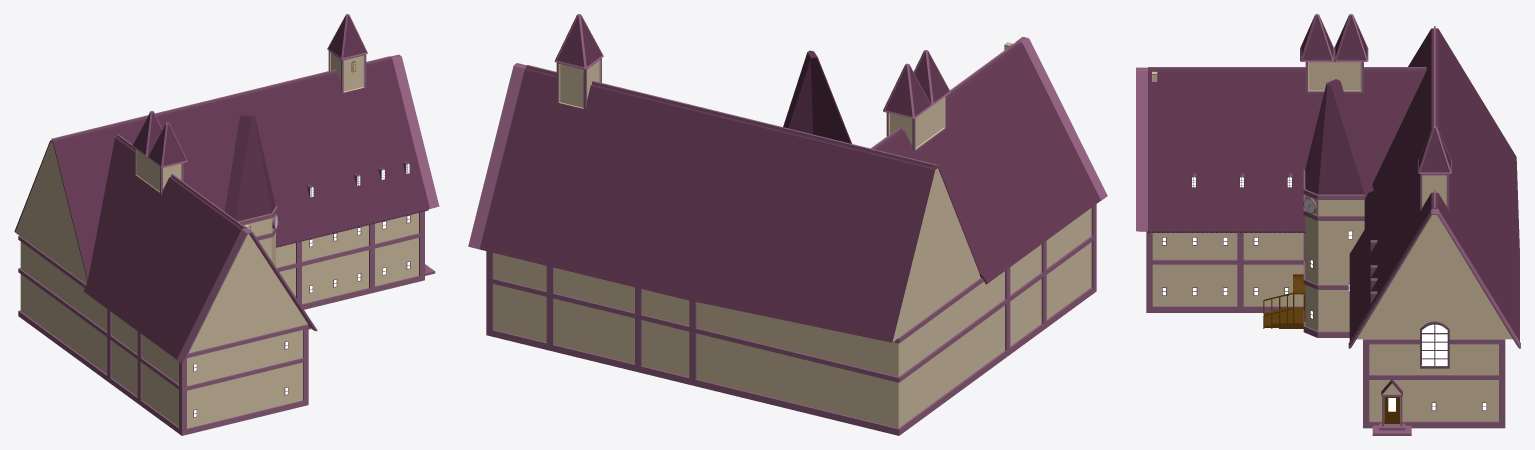
Rendered from beautiful_house-draco.glb.
3 views of the same model, side by side, from view 1: azimuth 30°, elevation 25°; view 2: azimuth 150°, elevation 25°; view 3: azimuth 270°, elevation 25° (orthographic). The views are drawn at different scales.
Visible parts, largest first — view 1: Object_162_roof_0, Object_21_Baseboard_material_0, Object_143_roof_0, Object_142_Baseboard_material_0, Object_145_Baseboard_material_0, Object_26_roof_clock_0, Object_4_purple_0, Object_97_purple_0, Object_164_roof_front_0, Object_159_roof_front_0, Object_148_roof_0, Object_137_roof_front_0 (+7 smaller); view 2: Object_162_roof_0, Object_21_Baseboard_material_0, Object_143_roof_0, Object_145_Baseboard_material_0, Object_4_purple_0, Object_97_purple_0, Object_26_roof_clock_0, Object_164_roof_front_0, Object_148_roof_0, Object_137_roof_front_0, Object_159_roof_front_0, Object_139_Baseboard_material_0 (+3 smaller); view 3: Object_143_roof_0, Object_162_roof_0, Object_21_Baseboard_material_0, Object_161_Baseboard_material_0, Object_27_roof_clock.001_0, Object_26_roof_clock_0, Object_4_purple_0, Object_159_roof_front_0, Object_97_purple_0, Object_148_roof_0, Object_164_roof_front_0, Object_139_Baseboard_material_0 (+13 smaller).
Part boxes in pixels (x1,y1,x2,y2): Object_162_roof_0: [14, 58, 429, 280]; Object_21_Baseboard_material_0: [20, 206, 418, 428]; Object_143_roof_0: [83, 137, 315, 359]; Object_142_Baseboard_material_0: [189, 234, 307, 352]; Object_145_Baseboard_material_0: [15, 142, 86, 283]; Object_26_roof_clock_0: [224, 113, 275, 221]; Object_4_purple_0: [18, 275, 419, 435]; Object_97_purple_0: [18, 233, 419, 391]; Object_164_roof_front_0: [391, 54, 439, 208]; Object_159_roof_front_0: [176, 228, 317, 363]; Object_148_roof_0: [133, 112, 185, 165]; Object_137_roof_front_0: [51, 56, 391, 141]; Object_162_roof_0: [479, 67, 979, 342]; Object_21_Baseboard_material_0: [493, 208, 1091, 428]; Object_143_roof_0: [875, 42, 1100, 284]; Object_145_Baseboard_material_0: [892, 168, 980, 342]; Object_4_purple_0: [486, 285, 1096, 435]; Object_97_purple_0: [486, 234, 1096, 382]; Object_26_roof_clock_0: [783, 50, 851, 143]; Object_164_roof_front_0: [468, 63, 526, 249]; Object_148_roof_0: [885, 52, 949, 116]; Object_137_roof_front_0: [526, 65, 936, 167]; Object_159_roof_front_0: [1016, 37, 1107, 200]; Object_139_Baseboard_material_0: [888, 97, 945, 149]; Object_143_roof_0: [1139, 70, 1426, 231]; Object_162_roof_0: [1349, 28, 1519, 347]; Object_21_Baseboard_material_0: [1152, 189, 1498, 421]; Object_161_Baseboard_material_0: [1357, 215, 1512, 339]; Object_27_roof_clock.001_0: [1318, 85, 1364, 194]; Object_26_roof_clock_0: [1305, 79, 1373, 194]; Object_4_purple_0: [1146, 306, 1505, 428]; Object_159_roof_front_0: [1136, 67, 1147, 231]; Object_97_purple_0: [1146, 259, 1505, 379]; Object_148_roof_0: [1301, 16, 1366, 60]; Object_164_roof_front_0: [1348, 209, 1520, 348]; Object_139_Baseboard_material_0: [1308, 49, 1361, 91].
Bounding box in the file's own units: 49.39 × 33.05 × 41.54.
